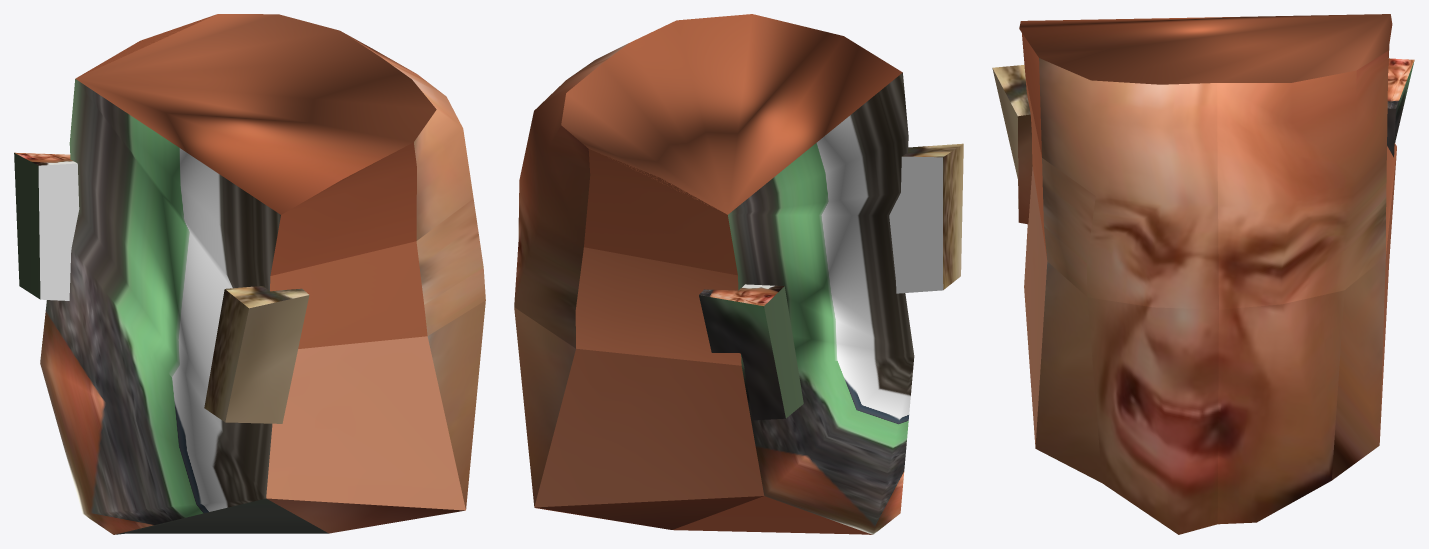
File: deepak.fbx
3 renders of one model, left to right at view 1: azimuth 30°, elevation 25°; view 2: azimuth 150°, elevation 25°; view 3: azimuth 270°, elevation 25°, orthographic. The views are drawn at different scales.
Visible parts, largest first — view 1: Cylinder; view 2: Cylinder; view 3: Cylinder.
Boxes of the visible parts, <box> form: Cylinder: <box>14,14,485,534</box>; Cylinder: <box>514,14,963,534</box>; Cylinder: <box>992,14,1414,534</box>.
Bounding box in the file's own units: 61.33 × 73.35 × 66.23.
1 material, 1 textured.
